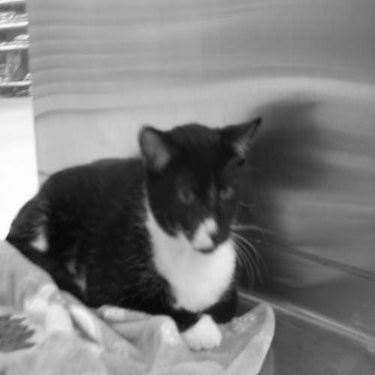cat: (10, 114, 283, 347)
